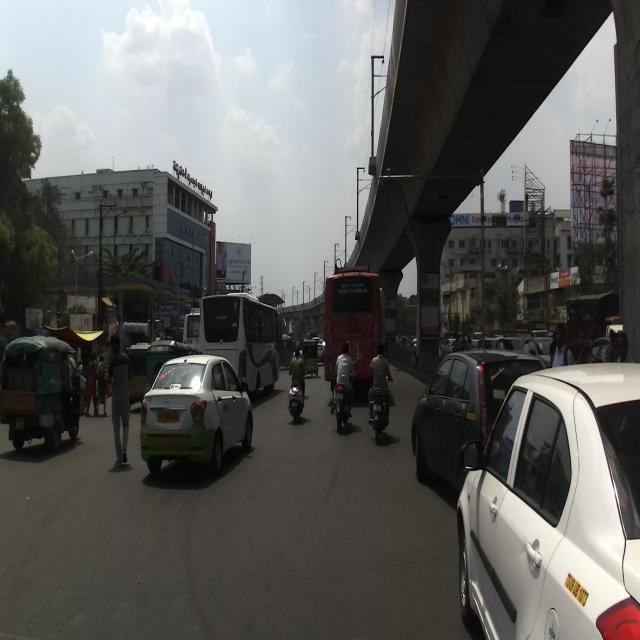autorickshaw: (0, 338, 82, 454), (143, 340, 200, 407)
car: (455, 359, 638, 639), (410, 350, 547, 484), (138, 354, 254, 476)
motorcycle: (367, 374, 394, 444), (332, 366, 353, 429)
scooter: (286, 369, 308, 420)
